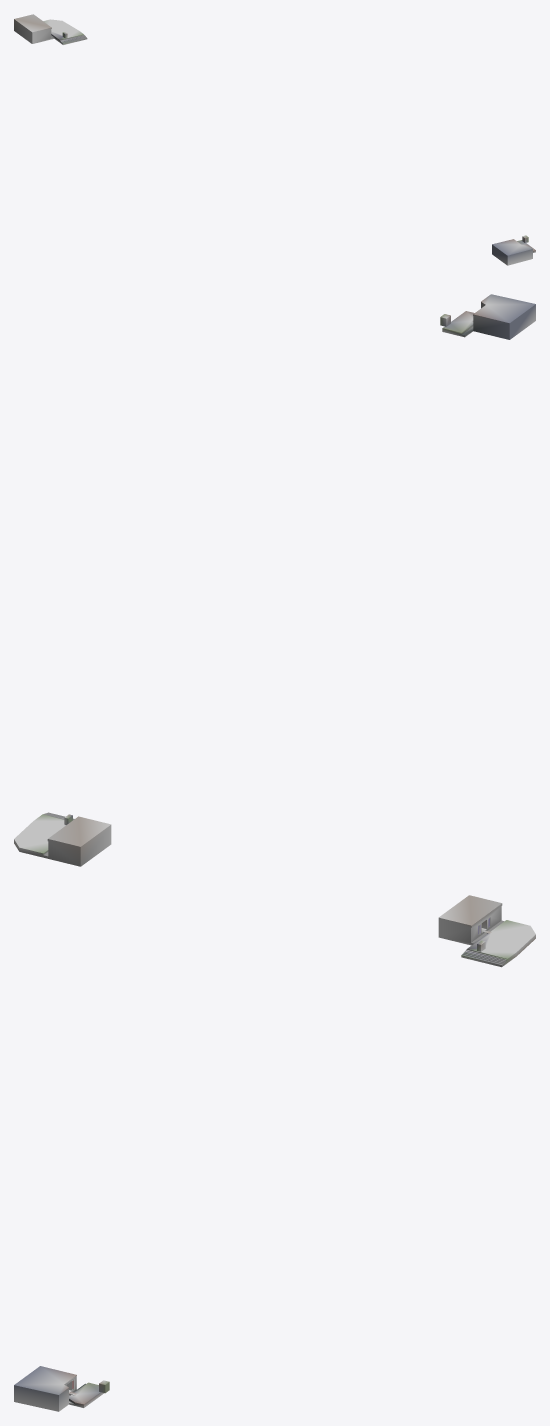
Rendered from ARRIVALS.glb.
3 views of the same model, one above another, from view 1: azimuth 30°, elevation 25°; view 2: azimuth 150°, elevation 25°; view 3: azimuth 330°, elevation 25° (orthographic). The views are drawn at different scales.
Visible parts, largest first — view 1: ARRIVALS; view 2: ARRIVALS; view 3: ARRIVALS.
Part boxes in pixels (x1,y1,x2,y2): ARRIVALS: (14,14,535,265); ARRIVALS: (14,294,535,866); ARRIVALS: (14,895,535,1411).
Size of the model in its own units: 119 by 20.93 by 526.
